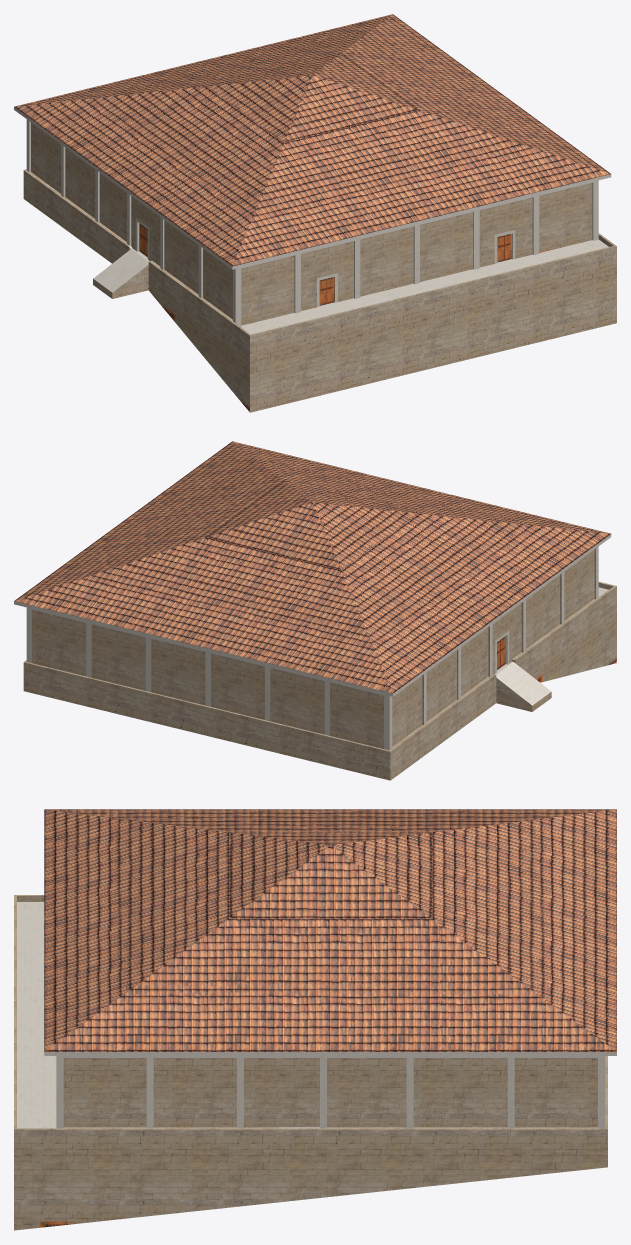
The model's file is pericles.fbx.
3 renders of one model, top to bottom at view 1: azimuth 30°, elevation 25°; view 2: azimuth 150°, elevation 25°; view 3: azimuth 270°, elevation 25°, orthographic. The views are drawn at different scales.
Parts seen in each view (by area): view 1: Model; view 2: Model; view 3: Model.
Boxes of the visible parts, left/top/right/bottom form: Model: left=14, top=14, right=616, bottom=412; Model: left=14, top=441, right=616, bottom=780; Model: left=14, top=809, right=616, bottom=1230.
Bounding box in the file's own units: 71950 × 34349 × 70061.
